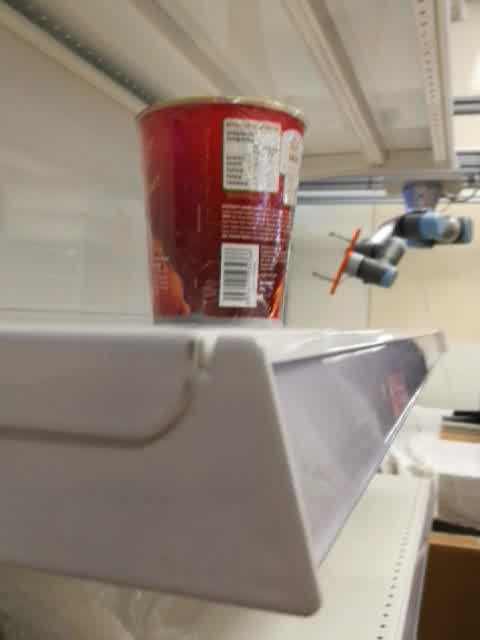maggi: (133, 94, 310, 327)
